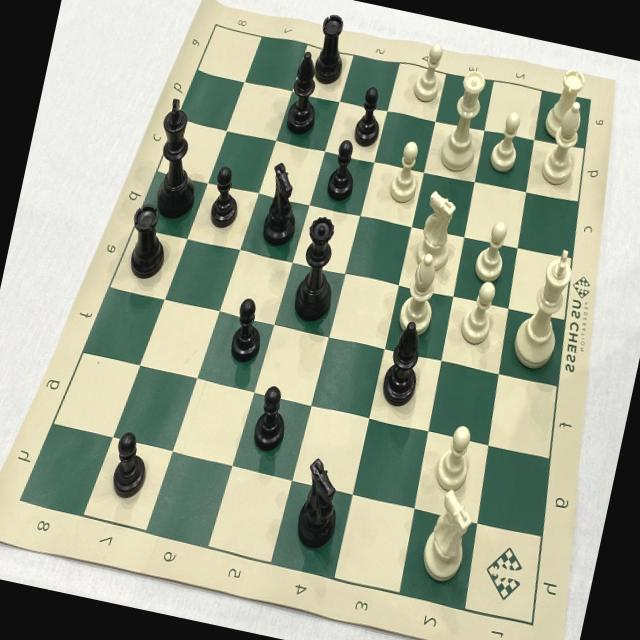black-bishop: (374, 313, 443, 415), (278, 42, 330, 142)
black-king: (138, 86, 216, 228)
black-pawn: (102, 425, 159, 508), (244, 376, 298, 460), (223, 290, 275, 370), (321, 129, 366, 209), (347, 76, 394, 152), (203, 160, 249, 236)
black-queen: (284, 208, 352, 328)
black-rook: (117, 196, 179, 290), (306, 8, 357, 93)
white-bishop: (388, 245, 449, 345), (534, 94, 592, 192)
white-king: (502, 234, 586, 378)
white-knight: (408, 484, 481, 590), (408, 182, 464, 274)
white-pawn: (428, 414, 484, 497), (452, 274, 505, 352), (467, 208, 517, 290), (382, 133, 432, 210), (484, 102, 530, 178), (406, 37, 452, 110)
white-queen: (430, 62, 498, 180)
white-rook: (535, 58, 591, 147)
